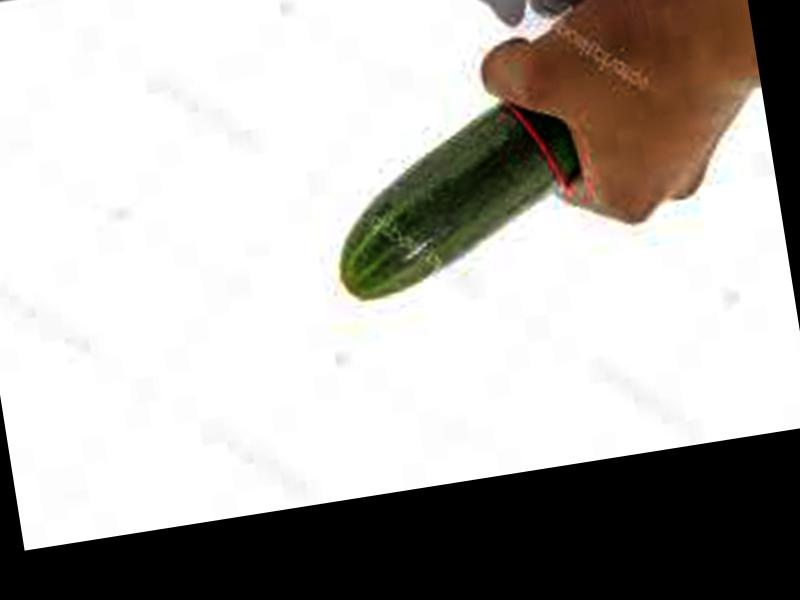Cucumber: (318, 94, 594, 303)
